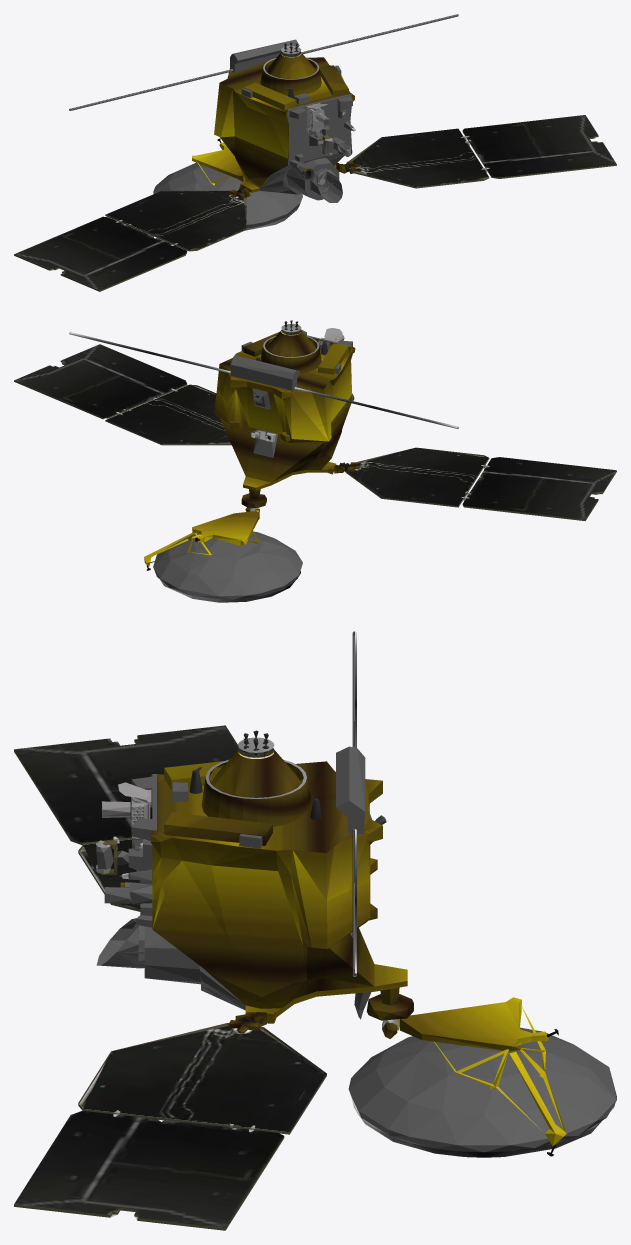
The model's file is mro-preview.glb.
3 views of the same model, one above another, from view 1: azimuth 30°, elevation 25°; view 2: azimuth 150°, elevation 25°; view 3: azimuth 270°, elevation 25° (orthographic). The views are drawn at different scales.
Visible parts, largest first — view 1: tex_01, tex_02, foil_gold, black_krinkle, foil_silver, shiny_panel; view 2: foil_gold, tex_01, tex_02, black_krinkle, foil_silver, foil_silver2; view 3: foil_gold, tex_01, black_krinkle, tex_02, foil_silver, foil_silver2.
Boxes of the visible parts, bbox=[...] form: tex_01: bbox=[14, 45, 616, 291]; tex_02: bbox=[106, 128, 488, 249]; foil_gold: bbox=[192, 51, 359, 198]; black_krinkle: bbox=[153, 39, 353, 227]; foil_silver: bbox=[69, 14, 458, 193]; shiny_panel: bbox=[51, 137, 597, 273]; foil_gold: bbox=[144, 329, 359, 566]; tex_01: bbox=[14, 323, 616, 570]; tex_02: bbox=[106, 384, 488, 506]; black_krinkle: bbox=[153, 329, 352, 599]; foil_silver: bbox=[69, 320, 458, 472]; foil_silver2: bbox=[160, 571, 300, 602]; foil_gold: bbox=[120, 747, 566, 1145]; tex_01: bbox=[14, 725, 558, 1230]; black_krinkle: bbox=[96, 746, 616, 1152]; tex_02: bbox=[83, 839, 326, 1132]; foil_silver: bbox=[189, 631, 386, 1022]; foil_silver2: bbox=[351, 1097, 615, 1157].
Bounding box in the file's own units: 13.18 × 4.88 × 6.68.
7 materials, 6 textured.
